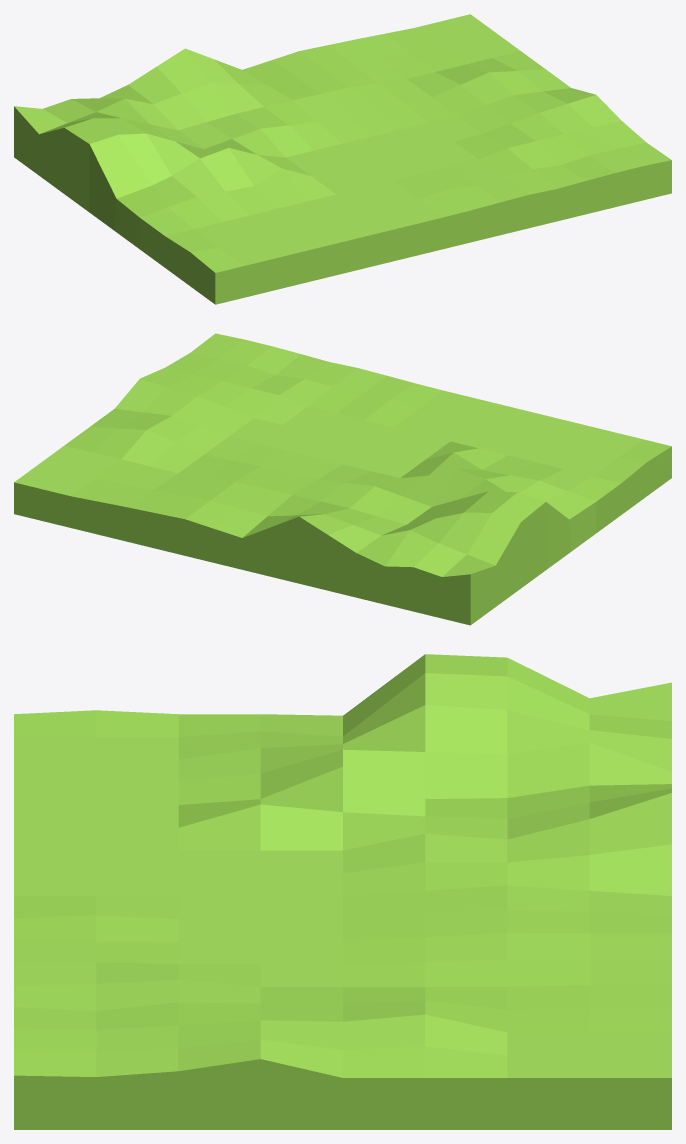
3 views of the same model, one above another, from view 1: azimuth 30°, elevation 25°; view 2: azimuth 150°, elevation 25°; view 3: azimuth 270°, elevation 25° (orthographic). The views are drawn at different scales.
Parts seen in each view (by area): view 1: 3/2; view 2: 3/2; view 3: 3/2.
Part boxes in pixels (<box>): 3/2: <box>14,14,671,304</box>; 3/2: <box>14,333,671,625</box>; 3/2: <box>14,654,671,1129</box>.
Bounding box in the file's own units: 5338 × 791 × 4080.
